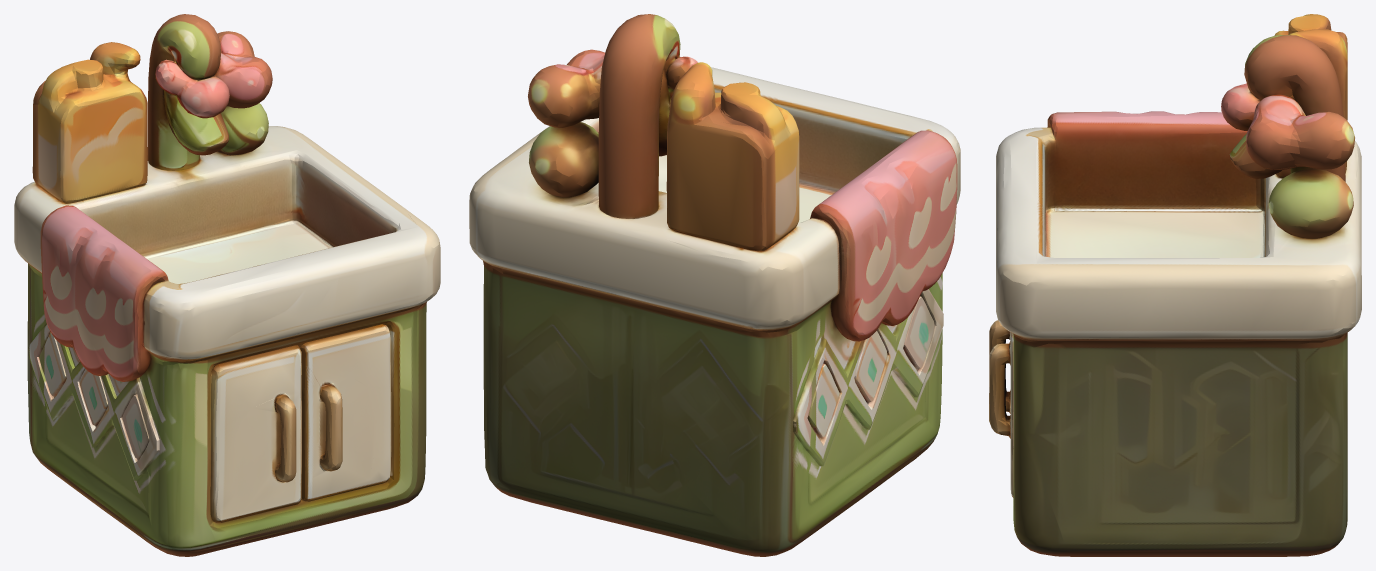
Rendered from BathroomCabinet.glb.
3 renders of one model, left to right at view 1: azimuth 30°, elevation 25°; view 2: azimuth 150°, elevation 25°; view 3: azimuth 270°, elevation 25°, orthographic. The views are drawn at different scales.
Visible parts, largest first — view 1: model; view 2: model; view 3: model.
Part boxes in pixels (<box>): model: <box>14,14,440,556</box>; model: <box>469,14,960,556</box>; model: <box>989,14,1361,556</box>.
Size of the model in its own units: 1.32 by 1.8 by 1.31.
1 material, 1 textured.
